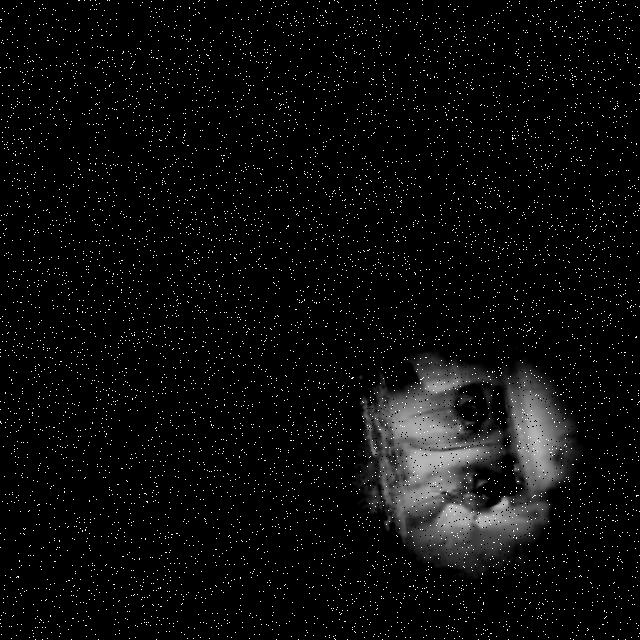sad: (353, 324, 601, 570)
